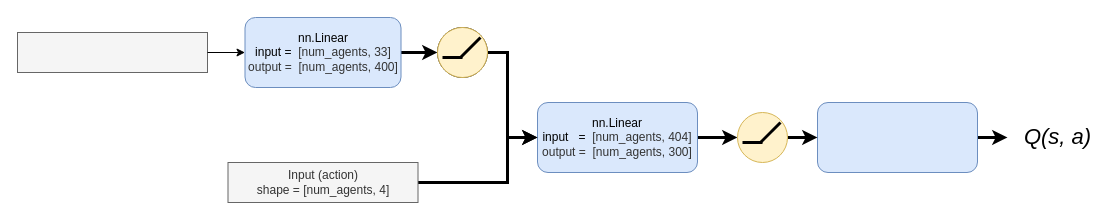
This 1115x220 diagram has some shape labels left out. The centre of each missing label's shape, as x and y in pixels:
"Input (state) shape = [num_agents, 33]" goes at point (112, 52).
"nn.Linear input = [num_agents, 300] output = [num_agents, 1]" goes at point (897, 137).
